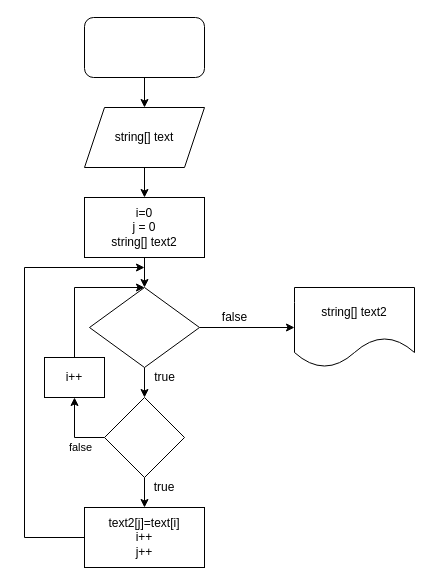
The diagram is 432 pixels wide and 585 high, and some of its shapes have lost their labels. The shapes that lost their labels are listed below. From the top down, each one's centre as x and y in pixels, then its label:
the point at 144,47: start
the point at 144,327: i<text.Length
the point at 144,437: text[i]<=3
